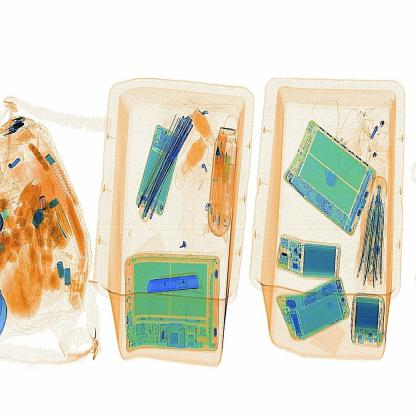pliers: (141, 268, 218, 299)
